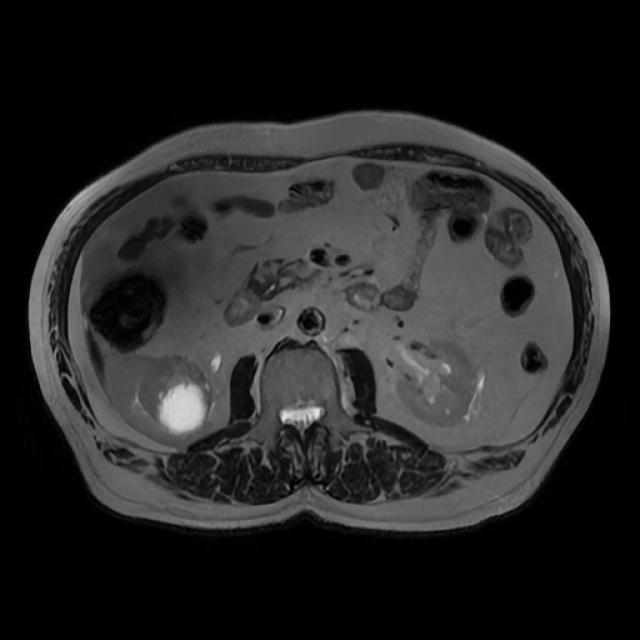sag: (139, 349, 210, 433)
sol: (395, 335, 479, 431)
